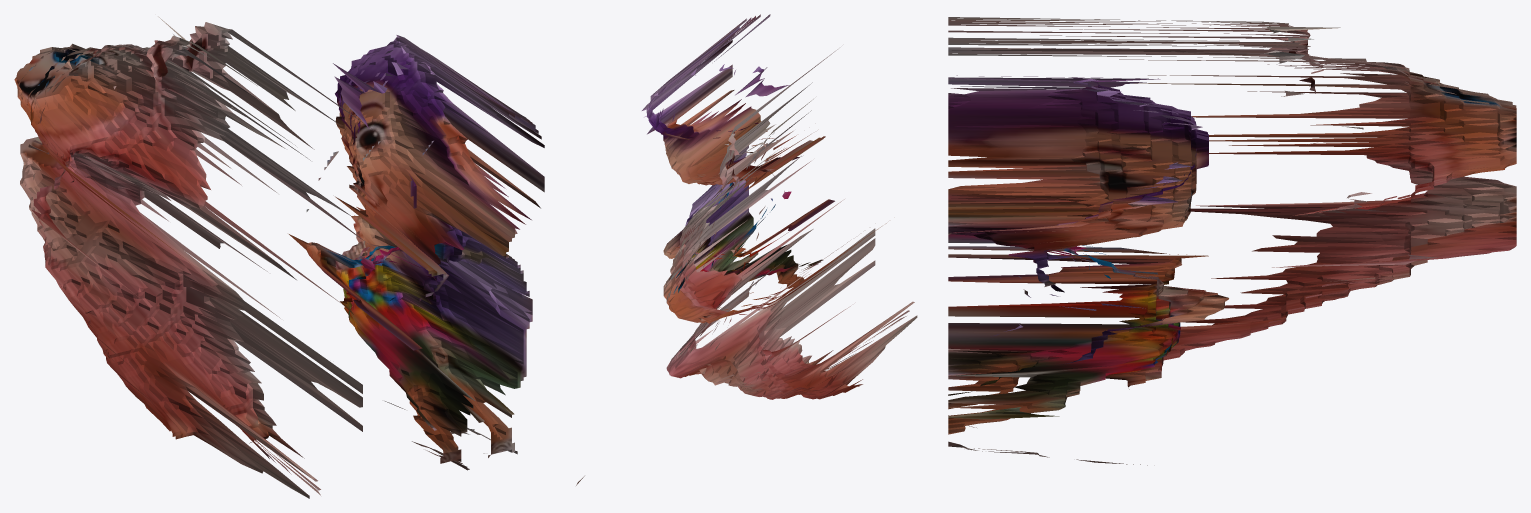
Rendered from frame_00021.glb.
3 views of the same model, side by side, from view 1: azimuth 30°, elevation 25°; view 2: azimuth 150°, elevation 25°; view 3: azimuth 270°, elevation 25° (orthographic). The views are drawn at different scales.
Visible parts, largest first — view 1: geometry_0; view 2: geometry_0; view 3: geometry_0.
Boxes of the visible parts, left/top/right/bottom form: geometry_0: left=14, top=16, right=544, bottom=498; geometry_0: left=576, top=14, right=917, bottom=485; geometry_0: left=948, top=17, right=1516, bottom=465.
Size of the model in its own units: 0.0951 by 0.1295 by 0.16.
1 material, 1 textured.
